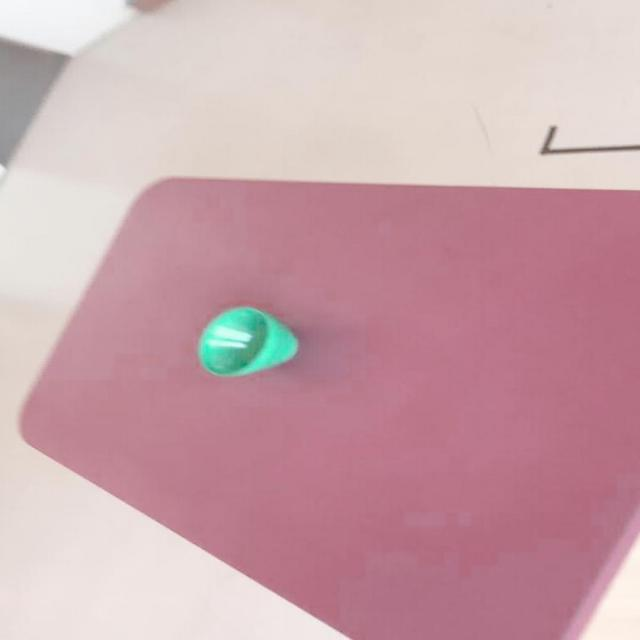Bowl: (15, 173, 639, 640), (196, 305, 298, 377)
